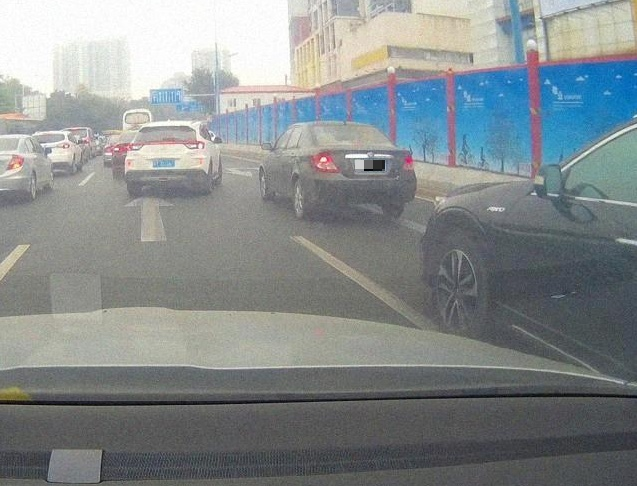L_light: (310, 153, 339, 173), (126, 143, 143, 151)
R_light: (401, 155, 414, 171), (183, 141, 204, 150)
T_light: (151, 141, 176, 144), (339, 125, 353, 129)
day-brake: (308, 121, 418, 219), (125, 121, 205, 197)
plate_1: (355, 160, 385, 171)
